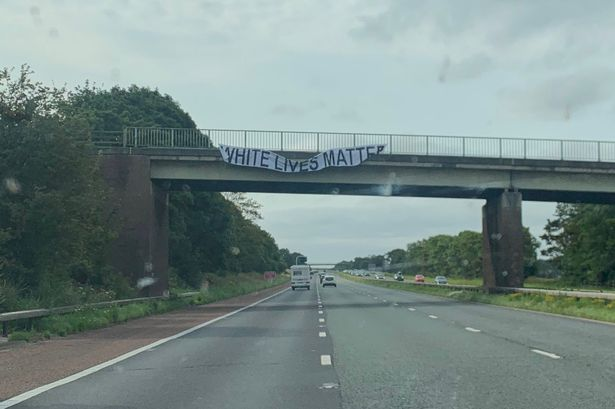bridge: (97, 131, 613, 299)
